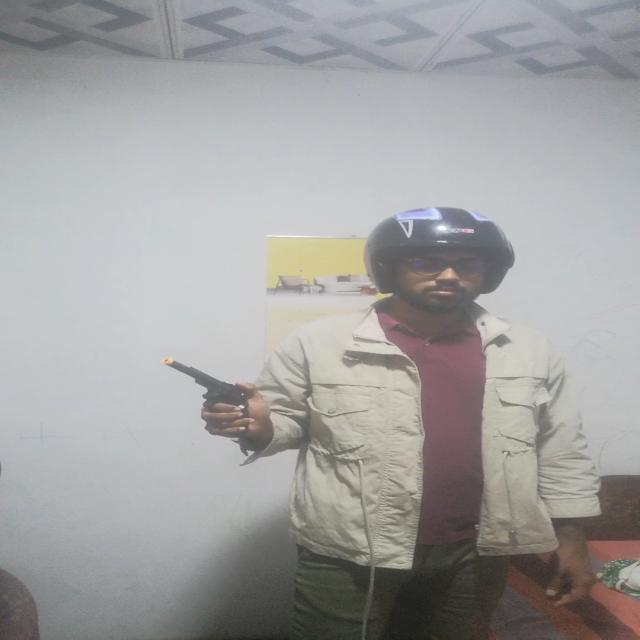Gun_Holder: (154, 354, 273, 437)
Helmet_Wearer: (348, 200, 533, 320)
Jacket_Wearer: (236, 312, 616, 554)
Person: (206, 198, 610, 640)
